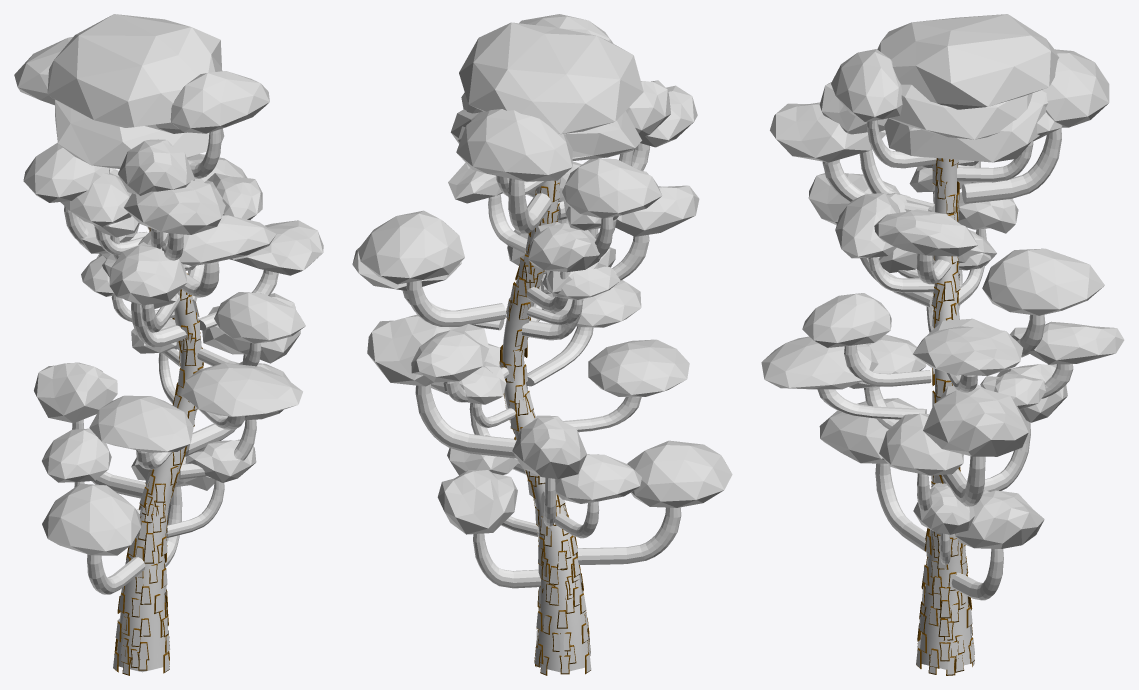
The model's file is Tree09.fbx.
The picture shows the model from 3 angles, left to right: view 1: azimuth 30°, elevation 25°; view 2: azimuth 150°, elevation 25°; view 3: azimuth 270°, elevation 25°; orthographic projection. The views are drawn at different scales.
Parts seen in each view (by area): view 1: Tree09; view 2: Tree09; view 3: Tree09.
Part boxes in pixels (bbox=[...]): Tree09: bbox=[14, 14, 323, 675]; Tree09: bbox=[352, 14, 732, 675]; Tree09: bbox=[761, 14, 1124, 675].
Bounding box in the file's own units: 734 × 1391 × 712.
